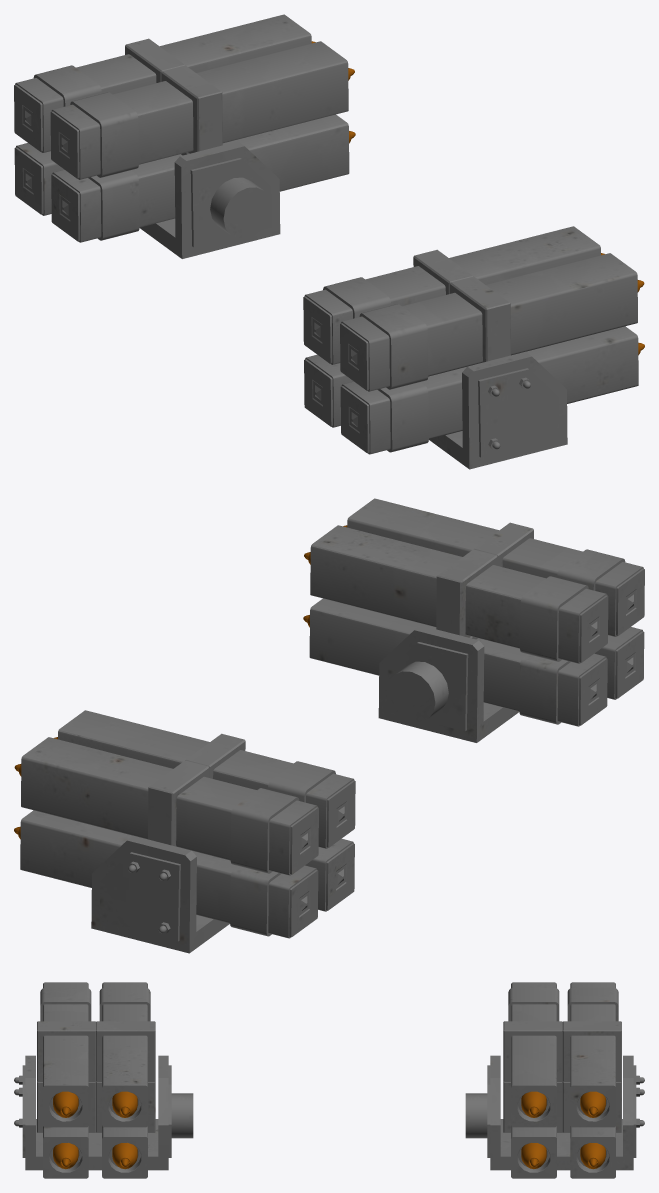
File: launcher.fbx
The picture shows the model from 3 angles, top to bottom: view 1: azimuth 30°, elevation 25°; view 2: azimuth 150°, elevation 25°; view 3: azimuth 270°, elevation 25°; orthographic projection. The views are drawn at different scales.
Visible parts, largest first — view 1: Cube.002; view 2: Cube.002; view 3: Cube.002.
Boxes of the visible parts, bbox=[...] form: Cube.002: bbox=[14, 14, 644, 469]; Cube.002: bbox=[14, 498, 644, 953]; Cube.002: bbox=[14, 982, 644, 1178].
Size of the model in its own units: 365 by 178 by 842.
